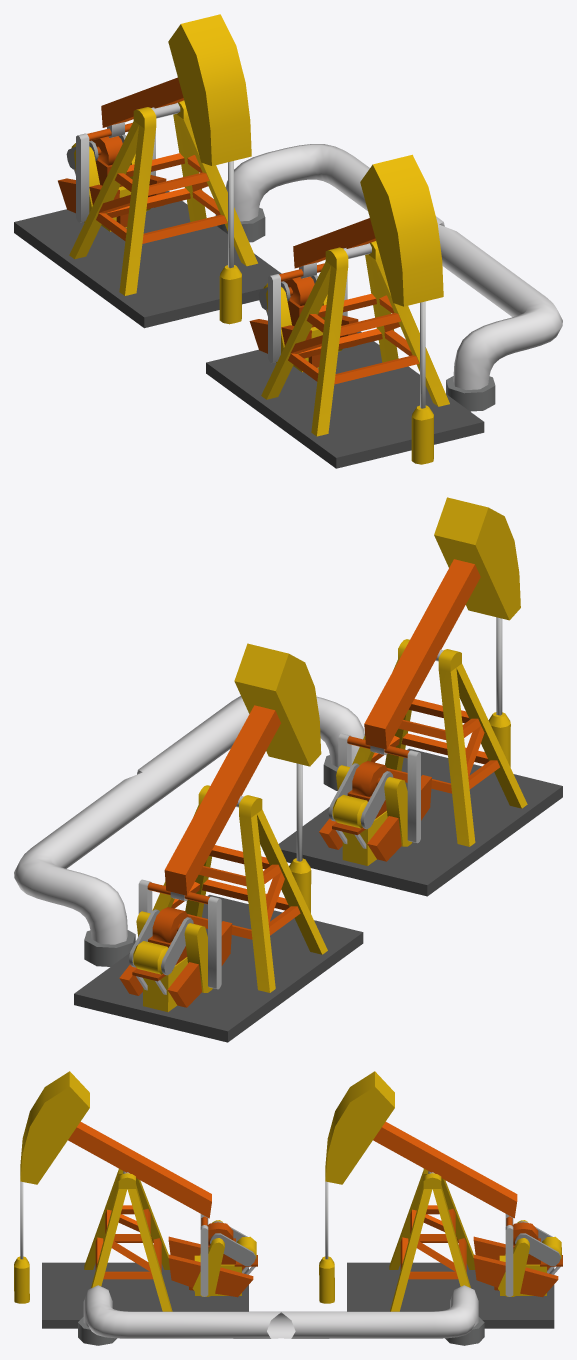
File: oil_inc_003.fbx
The picture shows the model from 3 angles, top to bottom: view 1: azimuth 30°, elevation 25°; view 2: azimuth 150°, elevation 25°; view 3: azimuth 270°, elevation 25°; orthographic projection. The views are drawn at different scales.
Parts seen in each view (by area): view 1: oil_pump_05.001, oil_pump_01.001; view 2: oil_pump_01.001, oil_pump_05.001; view 3: oil_pump_01.001, oil_pump_05.001.
Boxes of the visible parts, x1=… form: oil_pump_05.001: x1=206, y1=154, x2=562, y2=468; oil_pump_01.001: x1=14, y1=14, x2=444, y2=328; oil_pump_01.001: x1=14, y1=643, x2=363, y2=1042; oil_pump_05.001: x1=137, y1=497, x2=562, y2=896; oil_pump_01.001: x1=281, y1=1071, x2=562, y2=1345; oil_pump_05.001: x1=14, y1=1071, x2=281, y2=1345.
Size of the model in its own units: 49.09 by 48.51 by 109.
